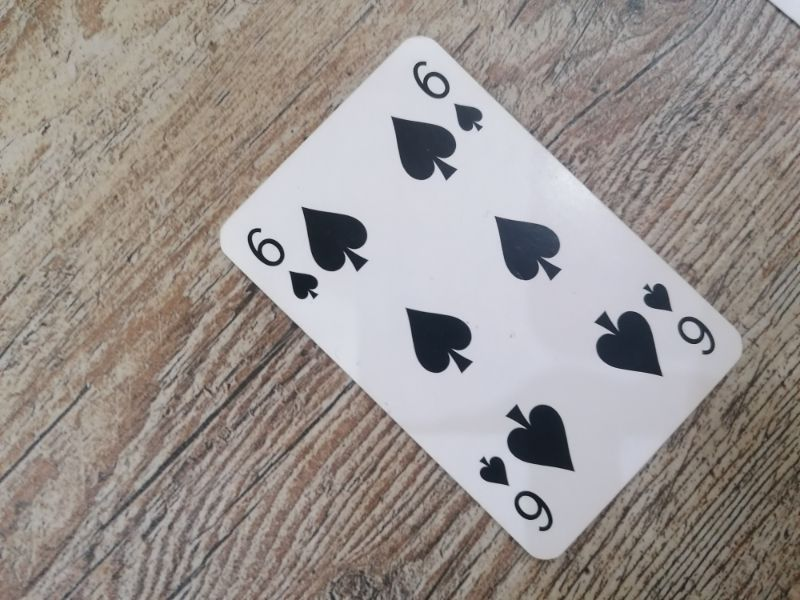6s: (475, 452, 556, 534), (245, 223, 323, 305), (411, 56, 488, 137), (640, 281, 719, 358)
